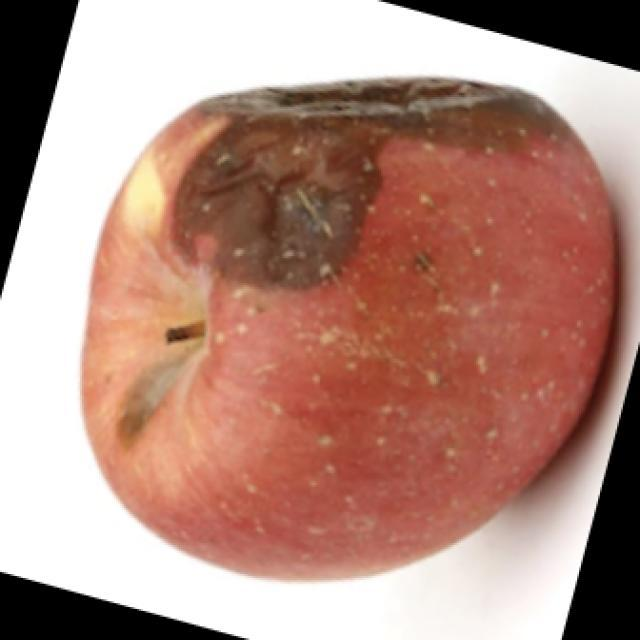Rotten: (110, 68, 597, 555)
